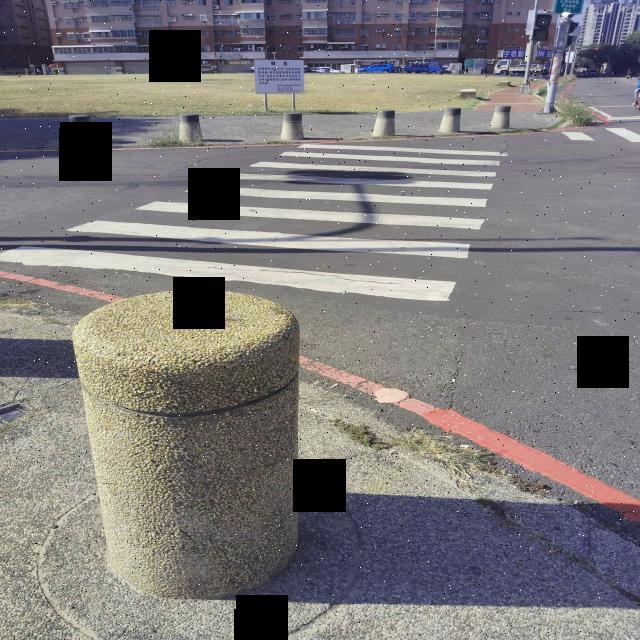zebra crossing: (4, 139, 503, 303), (566, 122, 639, 146)
